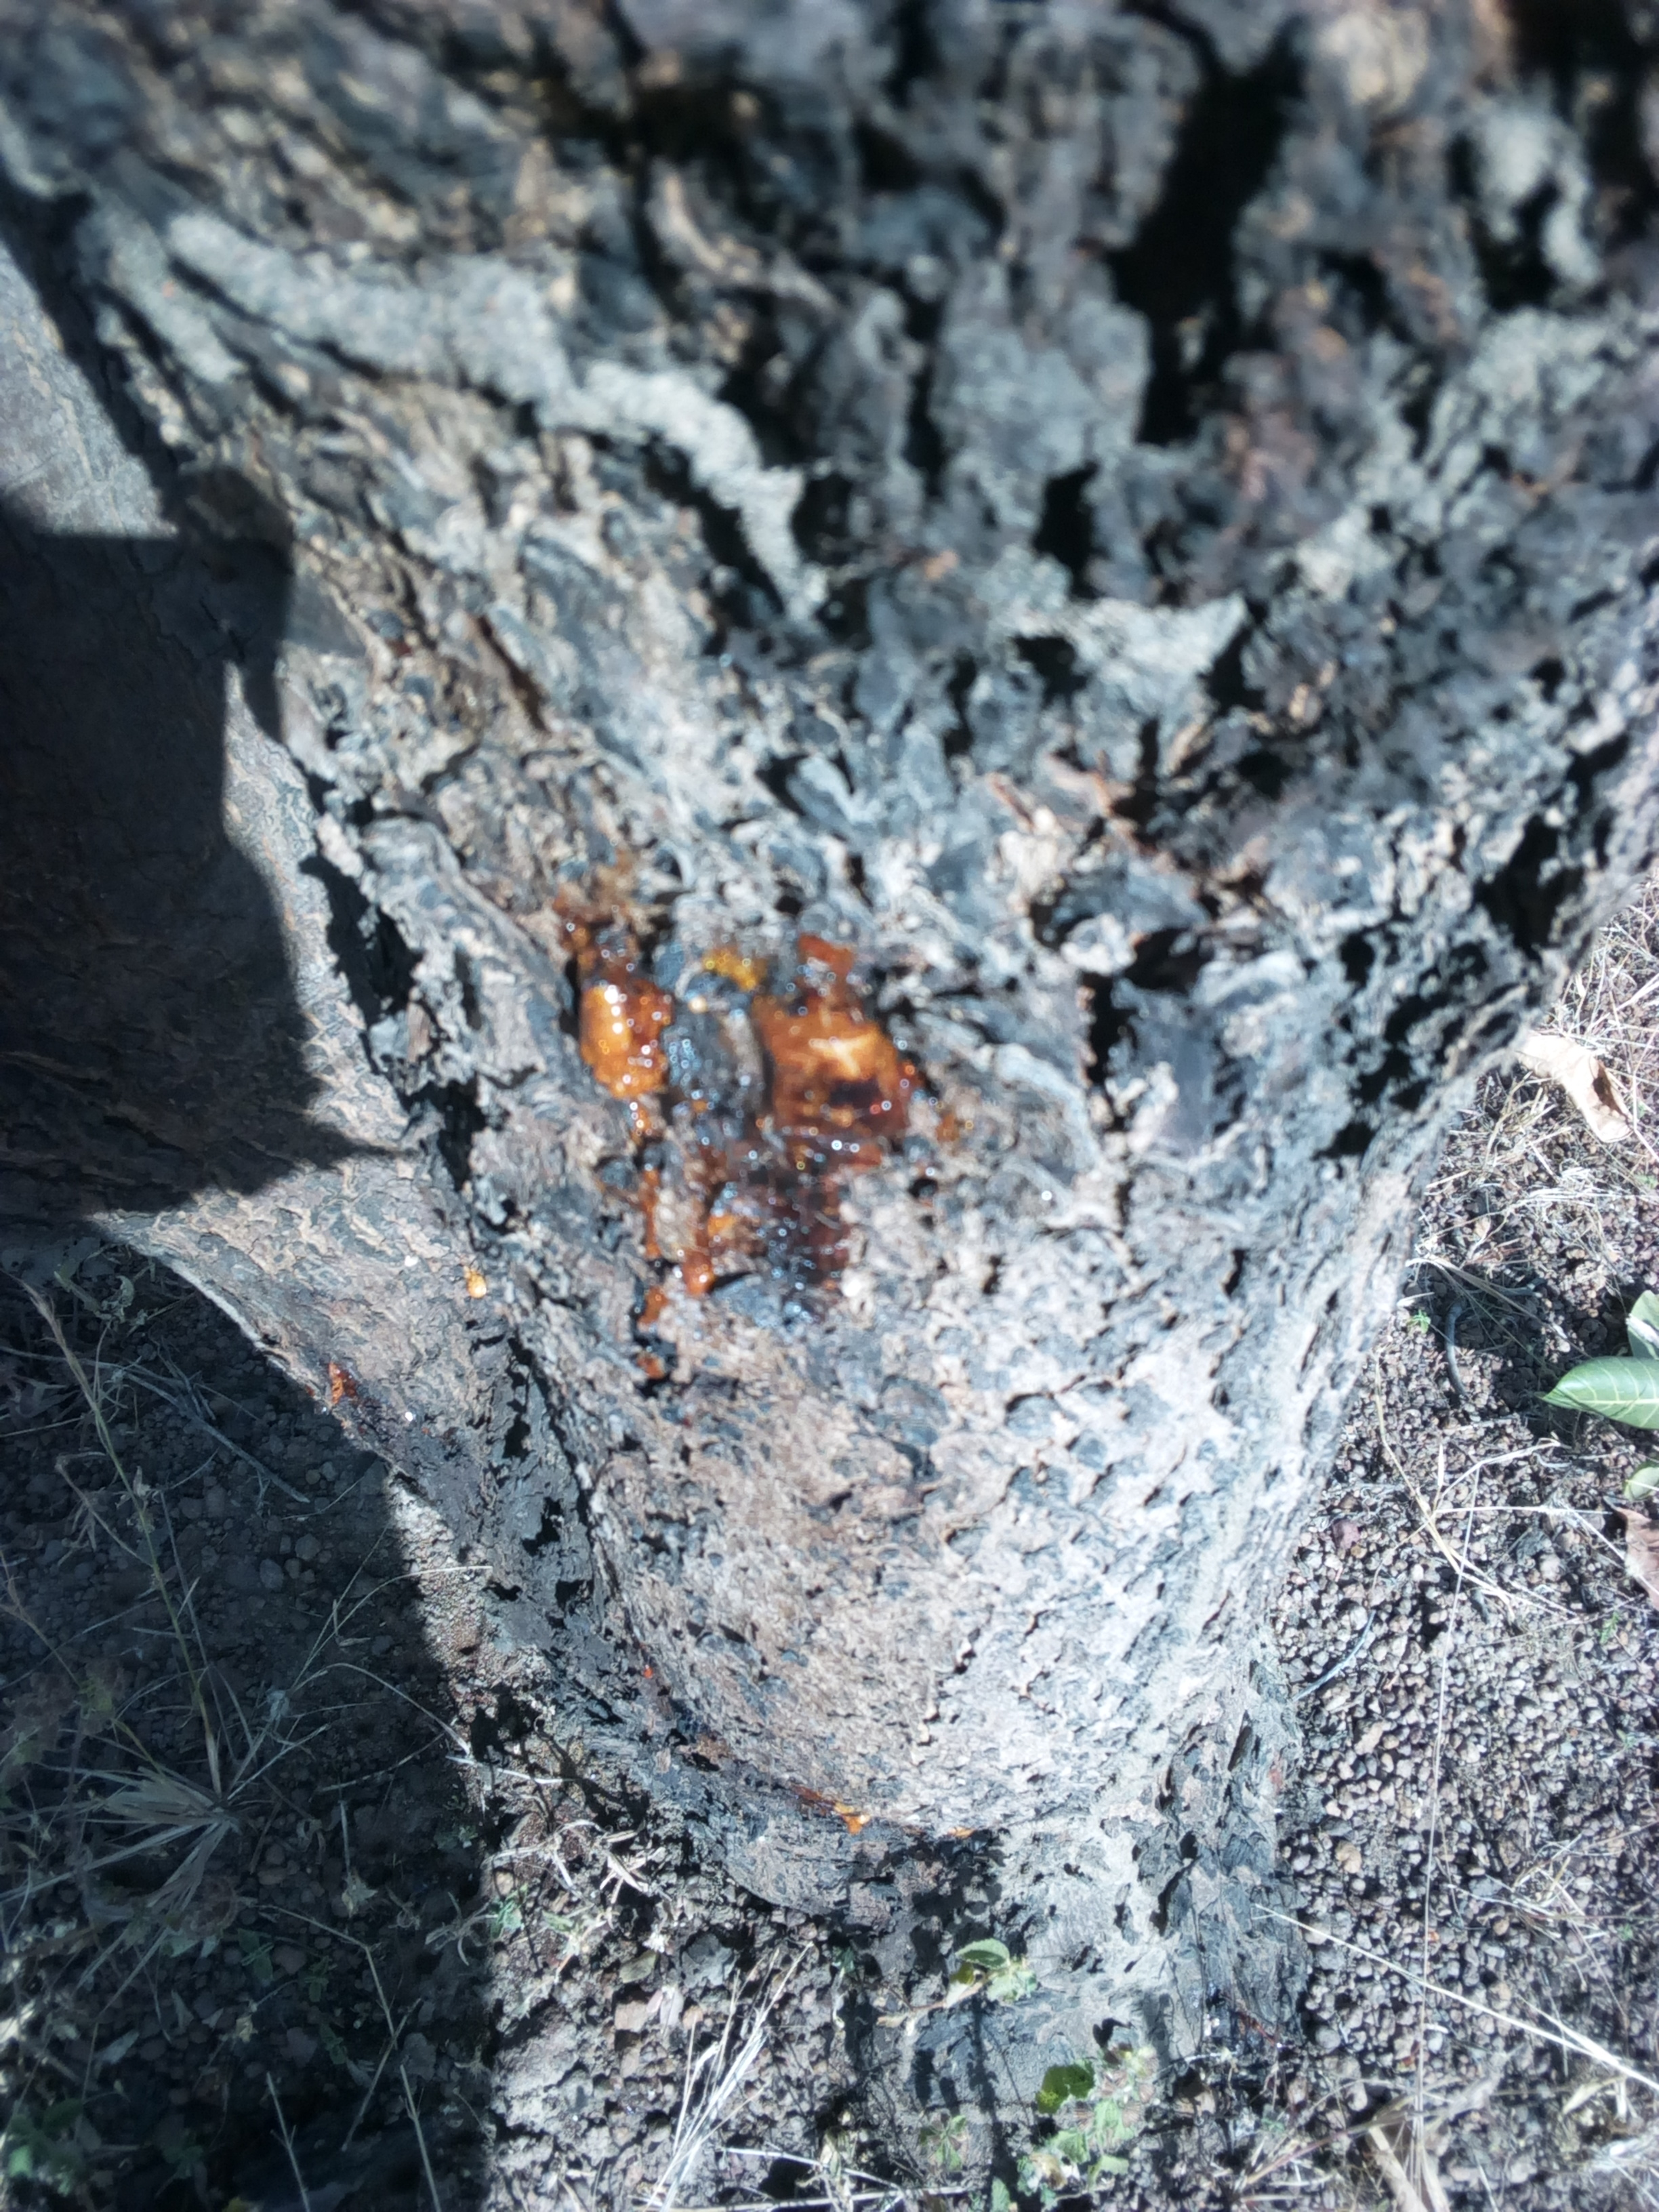Gommose: (554, 916, 901, 1360)
